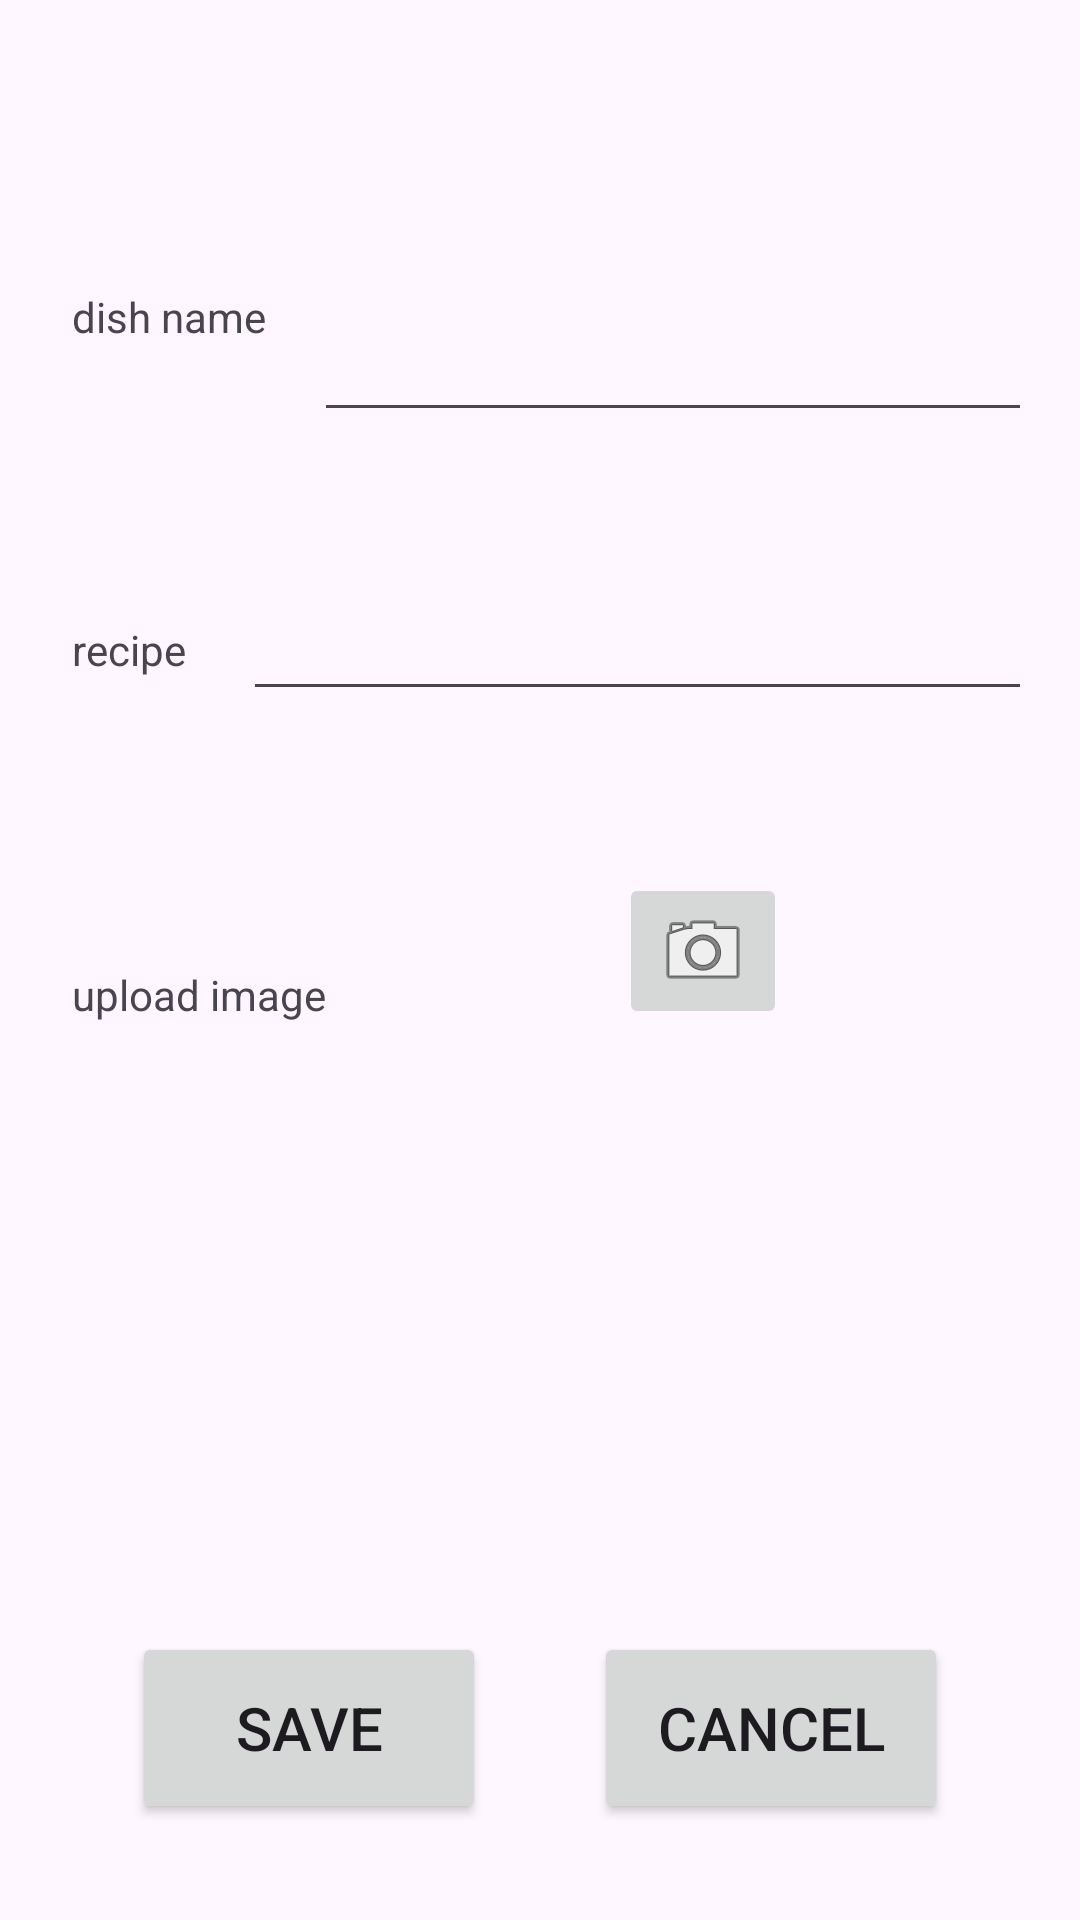

Where icons sit on this 1080 x 1920 app screen, as (x1, y1, x2, y2):
camera: (631, 891, 775, 1011)
